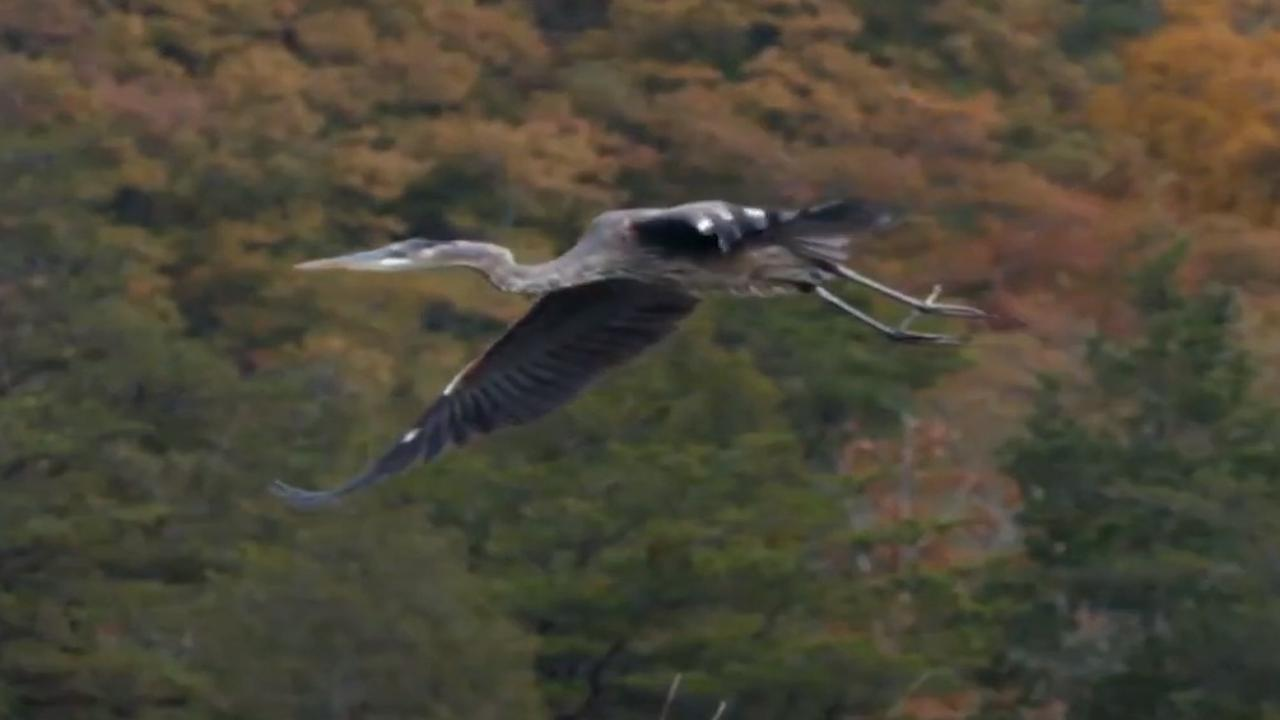Bird: (262, 186, 1001, 512)
